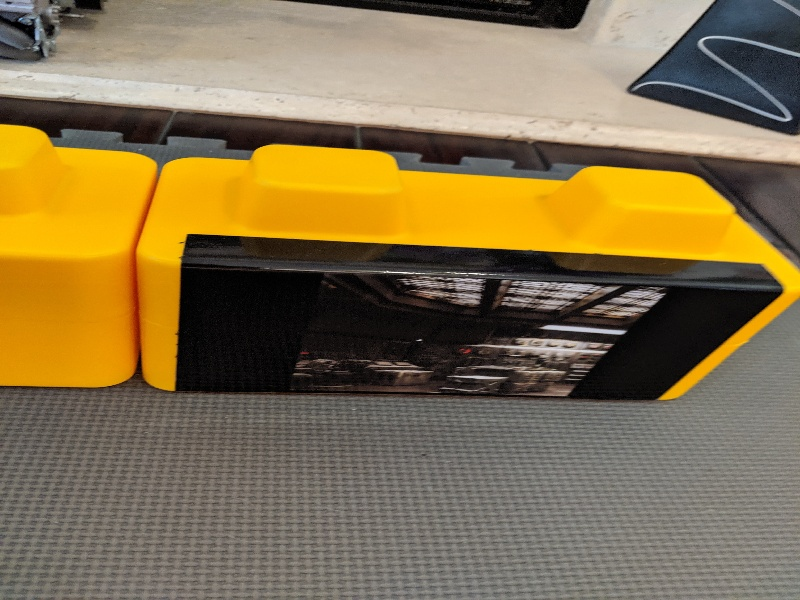Skystone: (164, 222, 785, 404)
